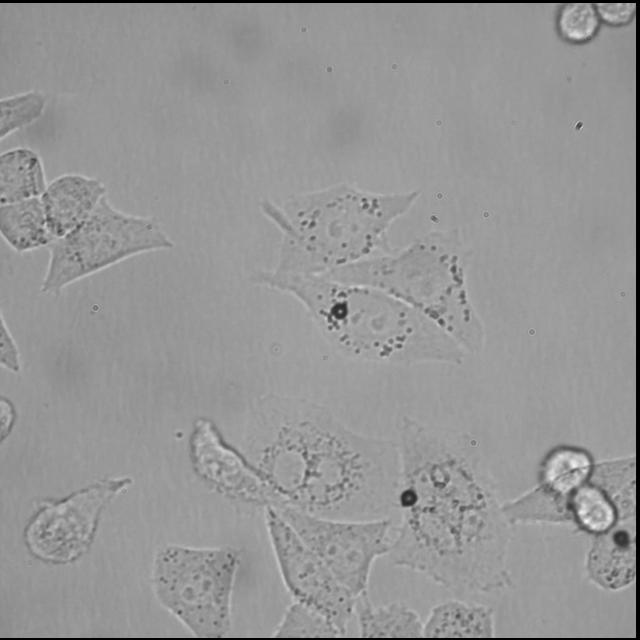microbeads: (330, 301, 350, 319), (400, 488, 418, 507)
